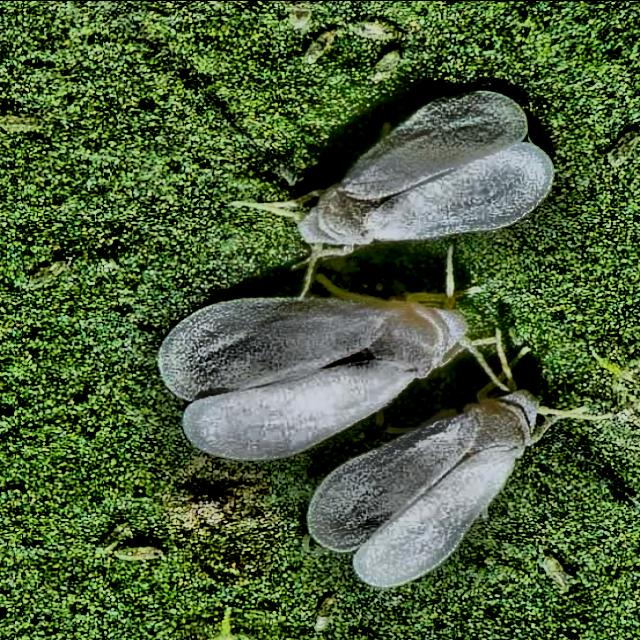whitefly: (159, 275, 475, 459), (308, 386, 558, 585), (297, 88, 553, 245)
